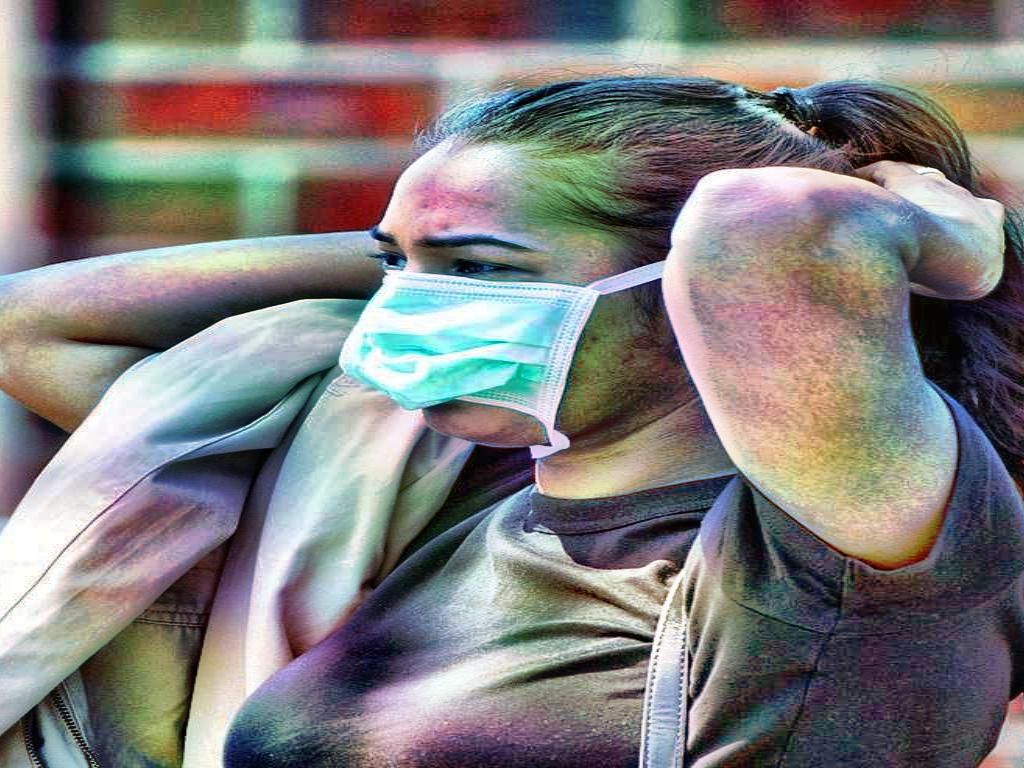mask_weared_incorrect: (331, 75, 853, 465)
